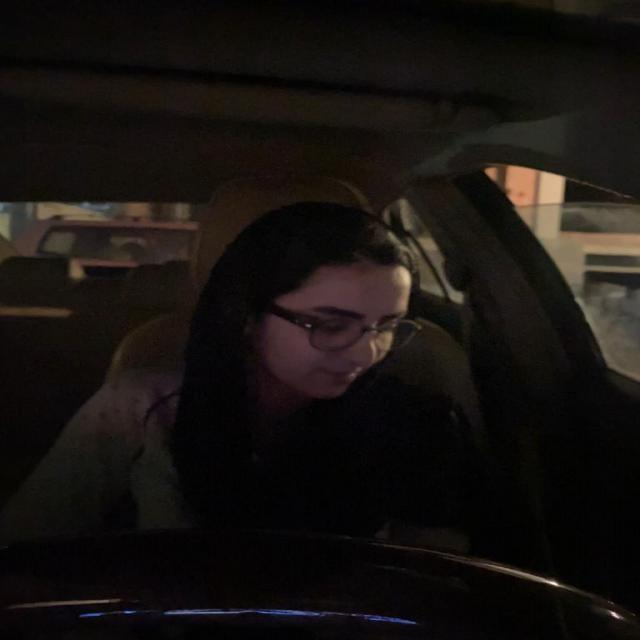drowsy: (232, 208, 434, 417)
